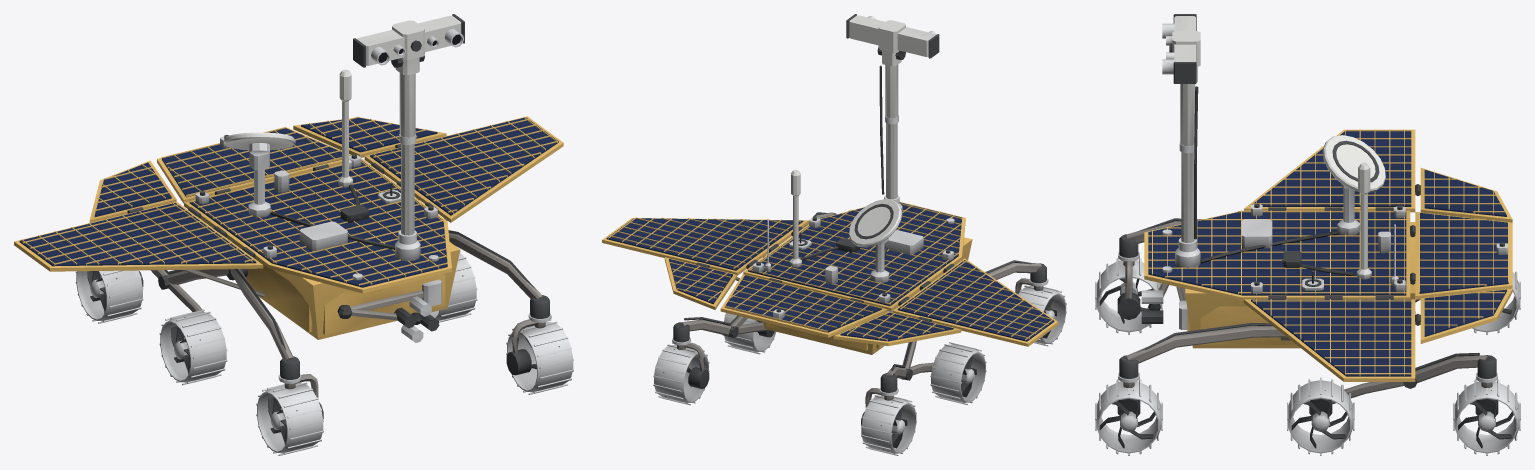
File: mer.glb
3 renders of one model, left to right at view 1: azimuth 30°, elevation 25°; view 2: azimuth 150°, elevation 25°; view 3: azimuth 270°, elevation 25°, orthographic. The views are drawn at different scales.
Visible parts, largest first — view 1: mer_mesh, mast_mesh; view 2: mer_mesh, mast_mesh; view 3: mer_mesh, mast_mesh.
Boxes of the visible parts, x1=… form: mer_mesh: x1=14, y1=69, x2=573, y2=455; mast_mesh: x1=353, y1=14, x2=464, y2=261; mer_mesh: x1=602, y1=169, x2=1066, y2=455; mast_mesh: x1=846, y1=14, x2=939, y2=217; mer_mesh: x1=1095, y1=129, x2=1520, y2=455; mast_mesh: x1=1162, y1=14, x2=1200, y2=267.
Bounding box in the file's own units: 2.3 × 1.56 × 1.67.
